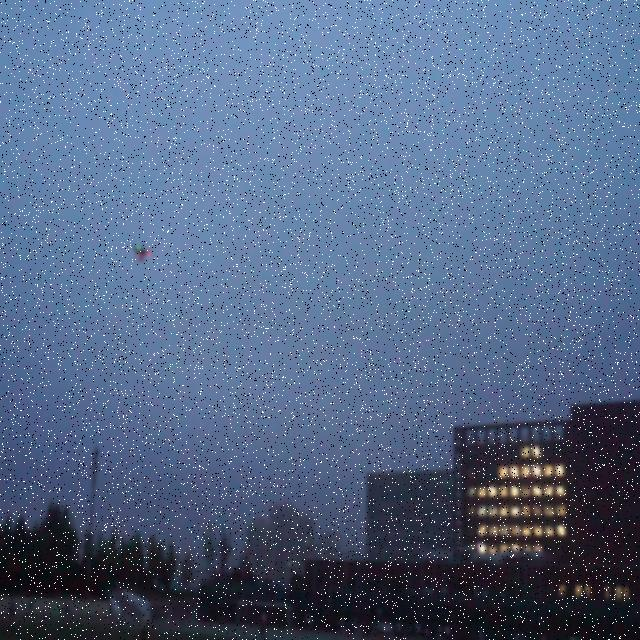UAV: (131, 242, 152, 264)
